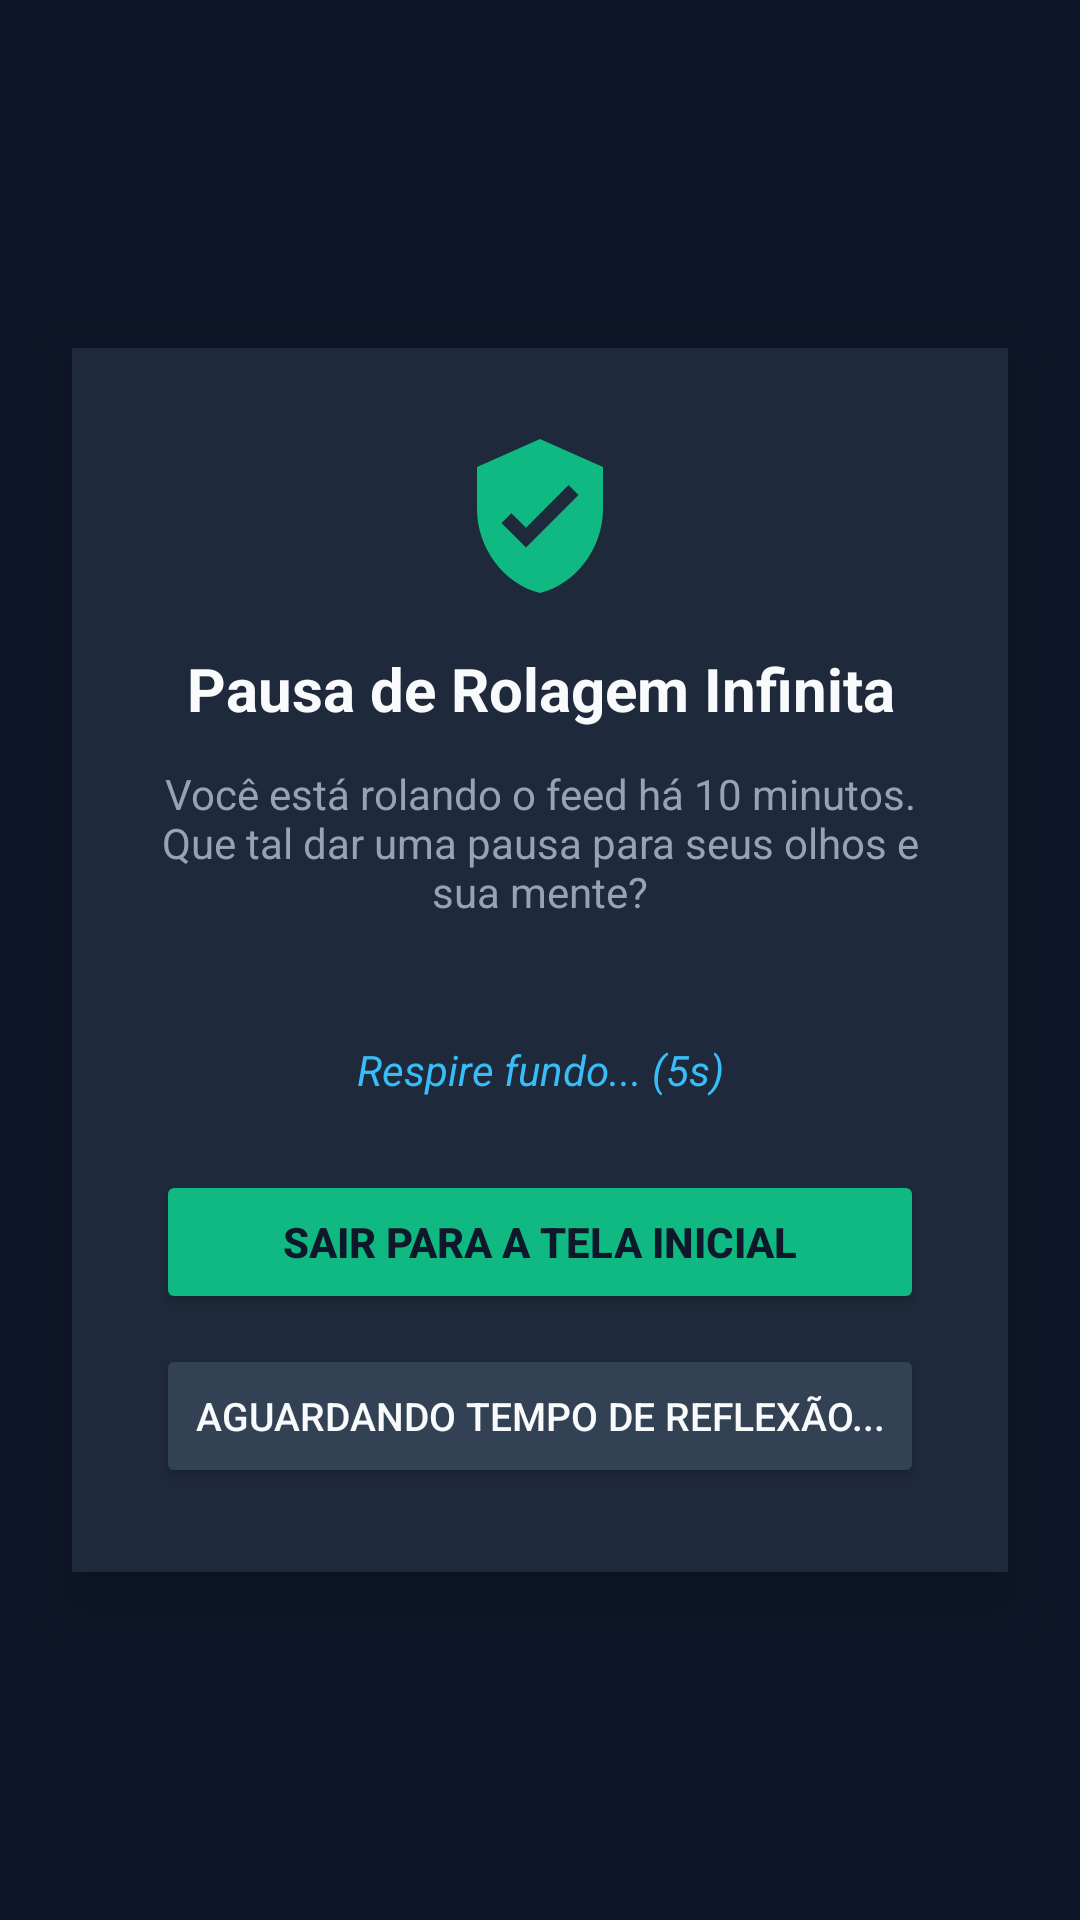

Icon click points for this 1080 x 1920 phone screenshot, format [x,y]:
ScrollGuard Shield: [540,516]
